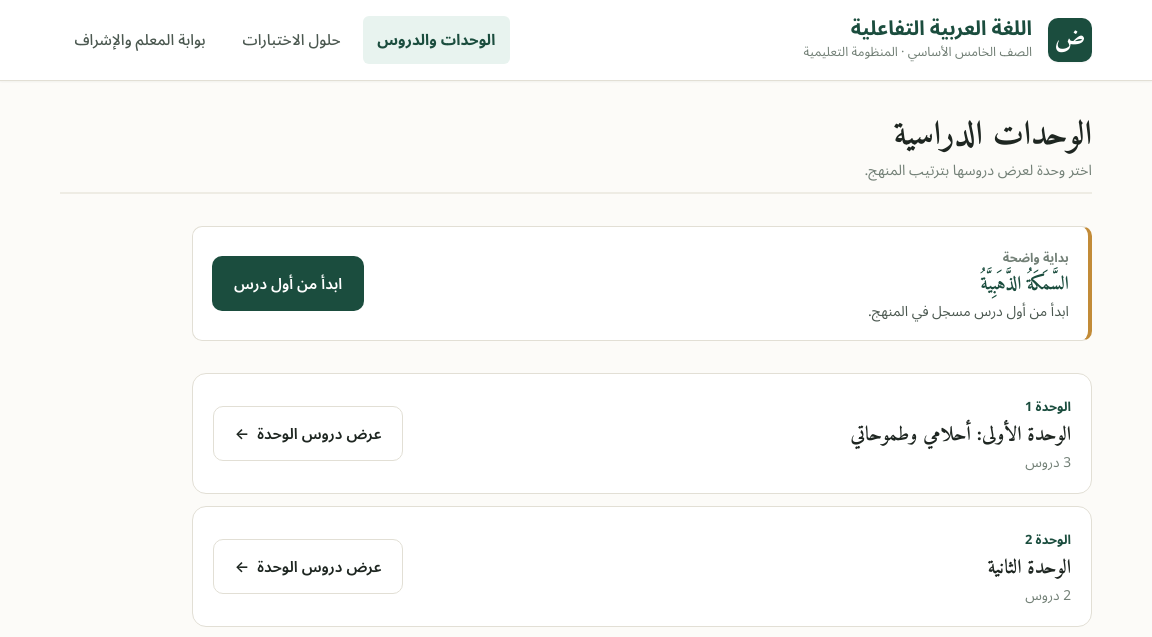
Scenario: Audit fix 4 — solutions gateway (st12) with honest limits › rejects a wrong password and accepts st12
Click the button "حلول الاختبارات".
click(291, 40)  # box [228, 16, 355, 64]
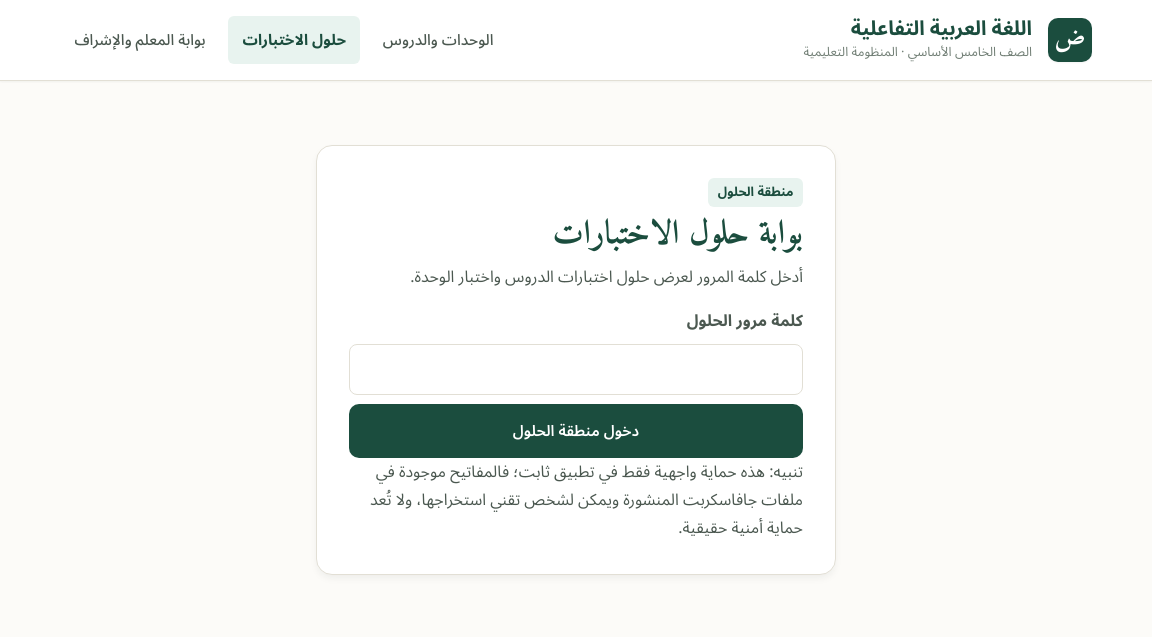
Type "wrong" into the password field labelled "كلمة مرور الحلول".
click(576, 370); type("wrong")  # box [349, 344, 803, 395]
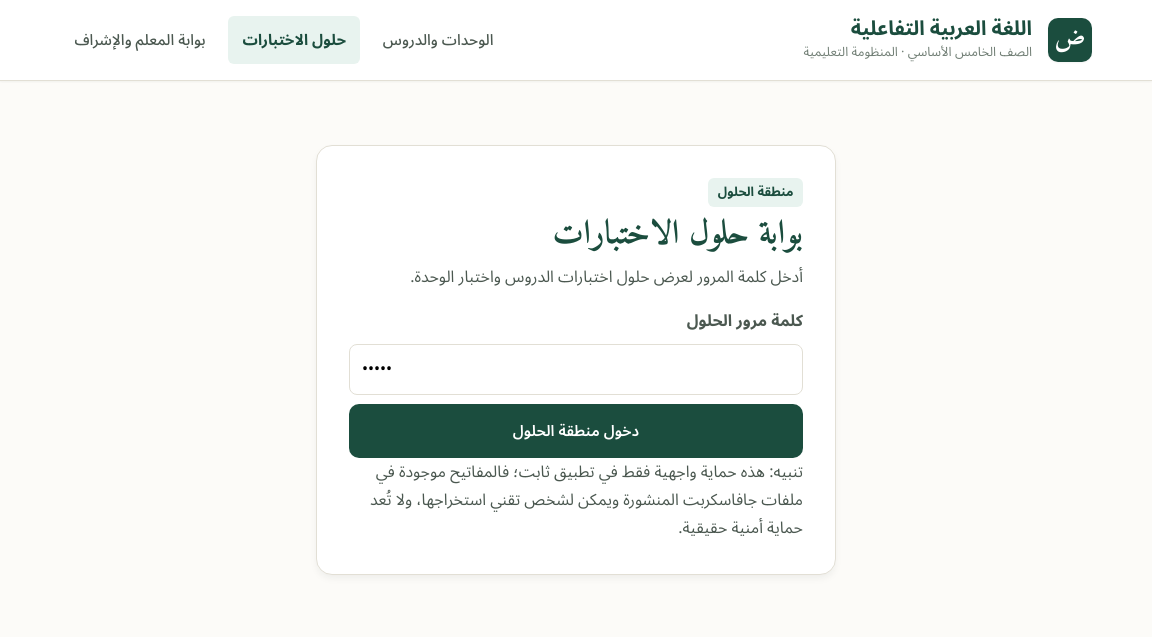
Click the button "دخول منطقة الحلول".
click(576, 431)  # box [349, 404, 803, 458]
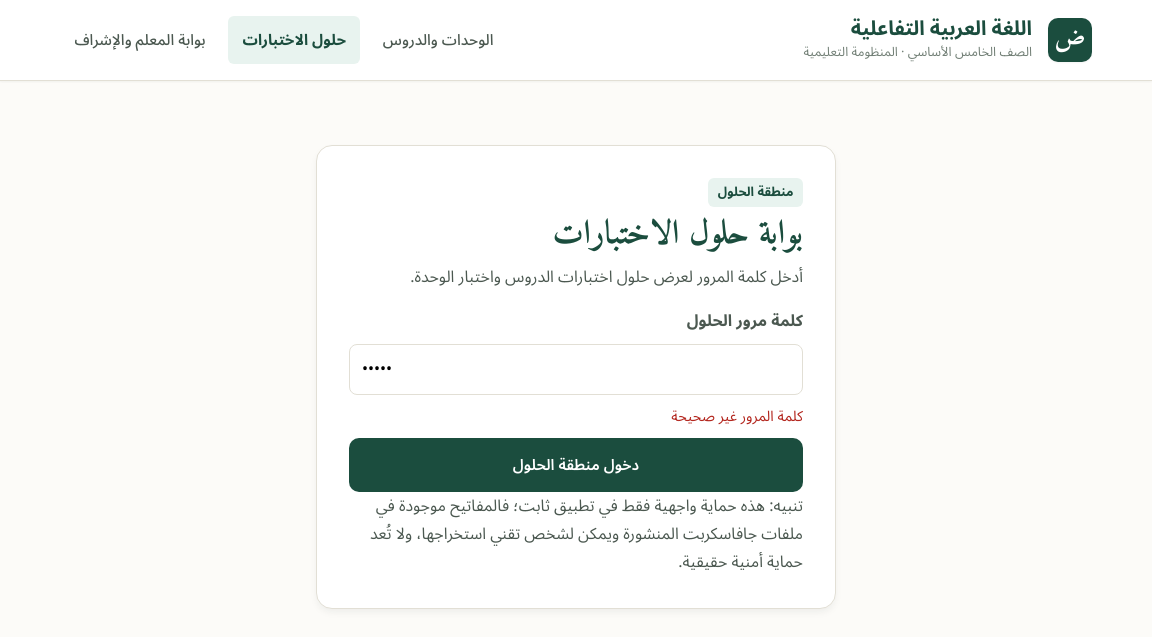
Check: the text "اختر اختبار الدرس" is not shown
Check: the message reads "كلمة المرور غير صحيحة", box [671, 401, 803, 432]
Type "st12" into the password field labelled "كلمة مرور الحلول".
click(576, 370); type("st12")  # box [349, 344, 803, 395]
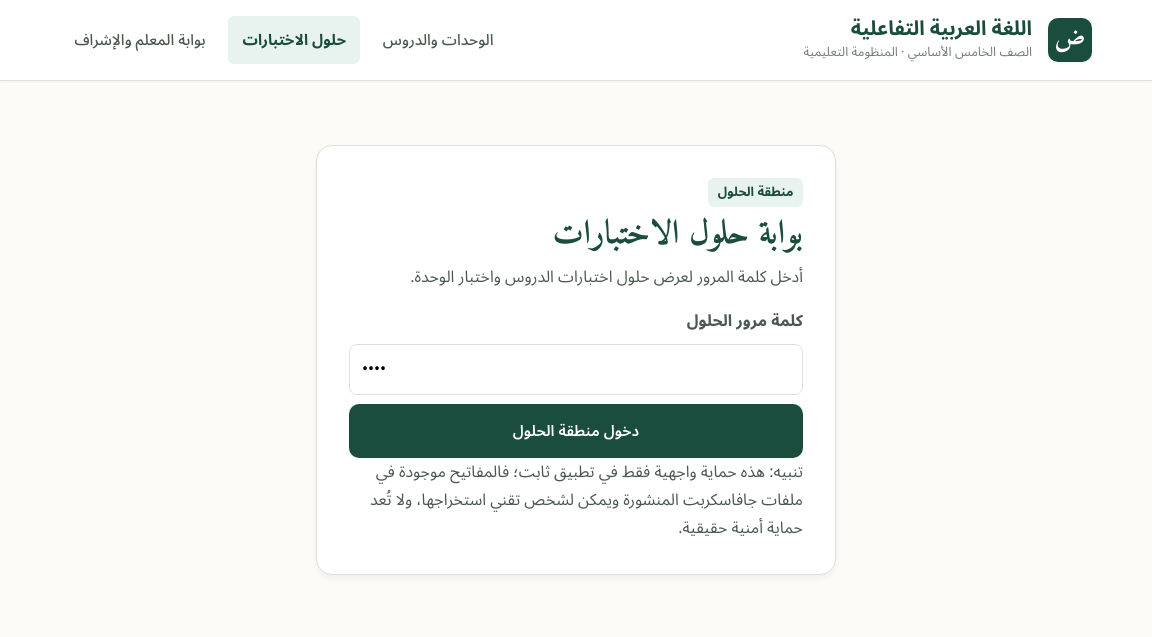
Click the button "دخول منطقة الحلول".
click(576, 431)  # box [349, 404, 803, 458]
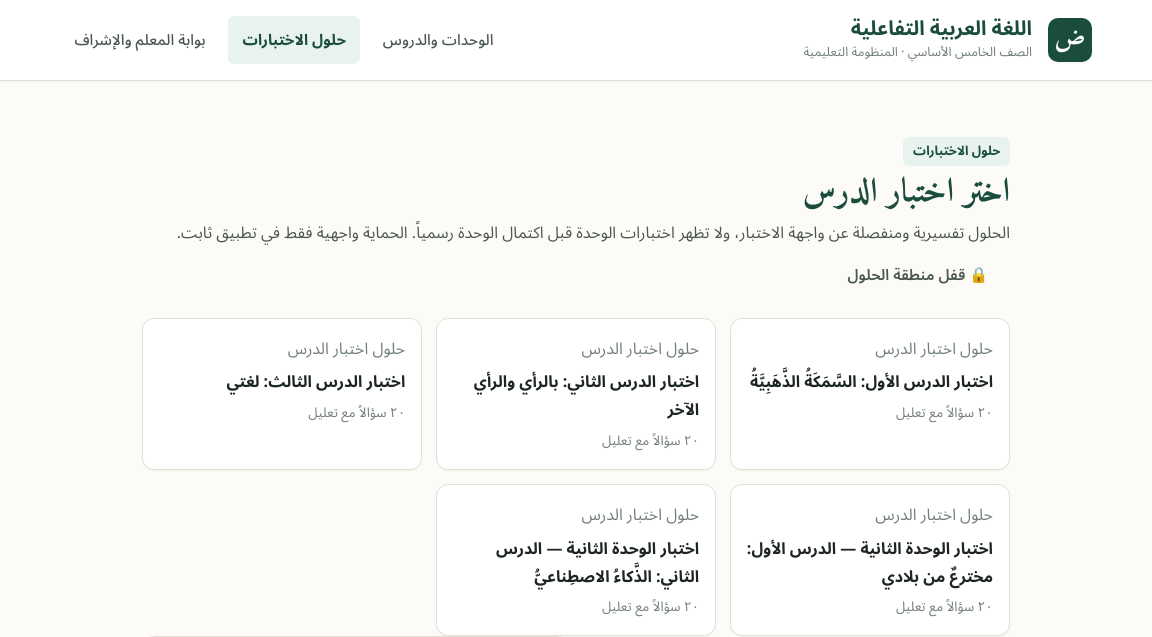
Check: the heading "اختر اختبار الدرس" is shown, box [802, 163, 1010, 222]
Check: the text "حماية واجهية فقط" is shown, box [177, 216, 1010, 250]
